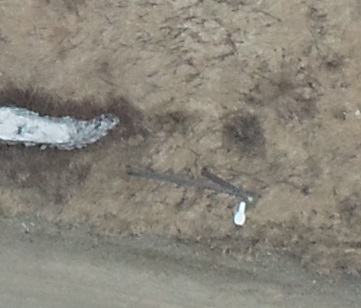opora: (126, 157, 258, 227)
